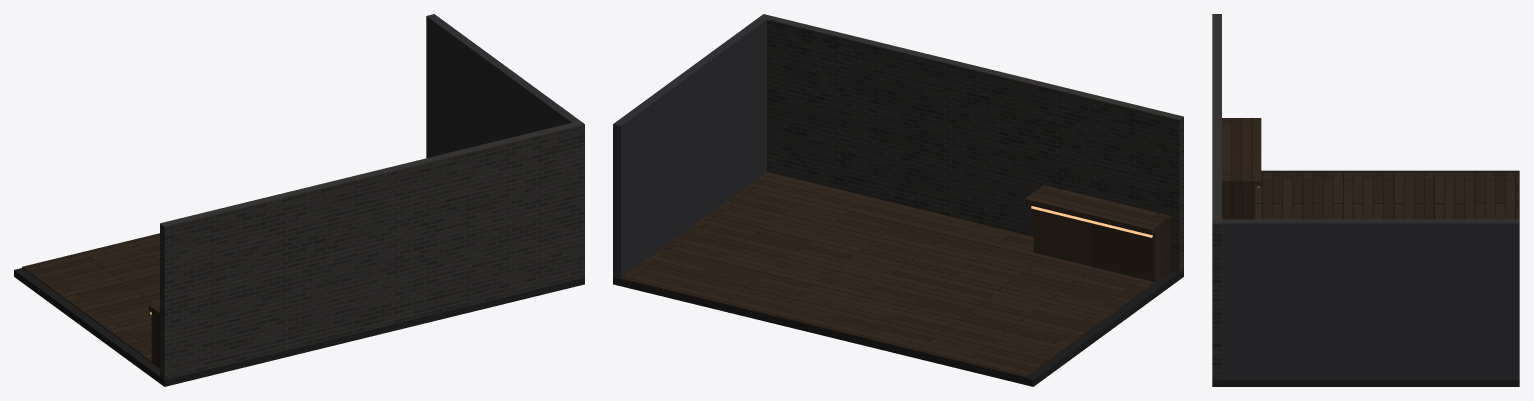
Rendered from man-cave-room-CiBKapah.glb.
3 renders of one model, left to right at view 1: azimuth 30°, elevation 25°; view 2: azimuth 150°, elevation 25°; view 3: azimuth 270°, elevation 25°, orthographic. The views are drawn at different scales.
Visible parts, largest first — view 1: ManCaveRoom; view 2: ManCaveRoom; view 3: ManCaveRoom.
Boxes of the visible parts, bbox=[...] form: ManCaveRoom: bbox=[14, 14, 584, 386]; ManCaveRoom: bbox=[613, 14, 1183, 386]; ManCaveRoom: bbox=[1212, 14, 1519, 386].
Bounding box in the file's own units: 8.32 × 3.03 × 5.16.
Materials: 2 (1 with a texture image).
